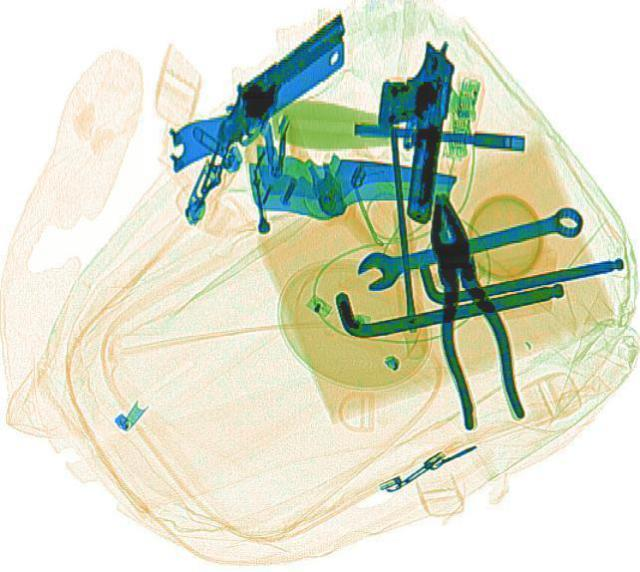Gun: (358, 31, 458, 222)
Pliers: (406, 184, 526, 430)
Wrench: (350, 200, 590, 290)
